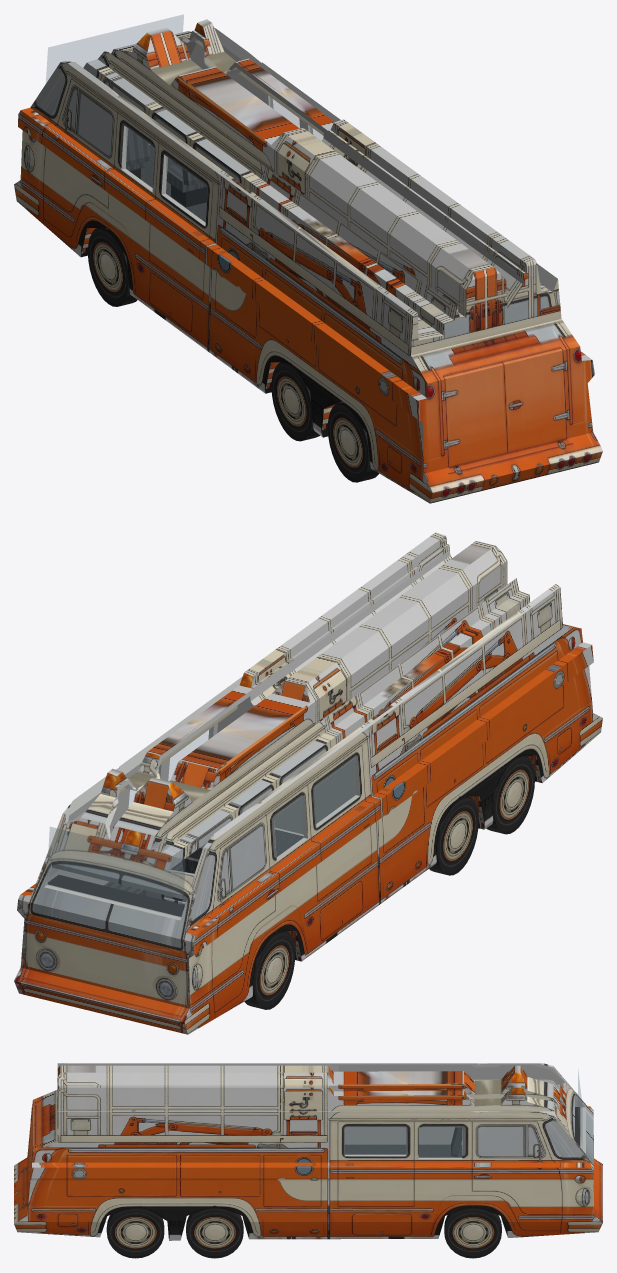
File: tram_maintenance_car.glb
3 renders of one model, top to bottom at view 1: azimuth 30°, elevation 25°; view 2: azimuth 150°, elevation 25°; view 3: azimuth 270°, elevation 25°, orthographic. The views are drawn at different scales.
Visible parts, largest first — view 1: tram_maintenance_car, tram_maintenance_car_cabin, wheel_BL, wheel_FL, wheel_M1L; view 2: tram_maintenance_car, tram_maintenance_car_cabin, wheel_FL, wheel_M1L, wheel_BL; view 3: tram_maintenance_car, tram_maintenance_car_cabin, wheel_M1R, wheel_FR, wheel_BR.
Boxes of the visible parts, x1,y1,x2,y2 form: tram_maintenance_car: (14, 19, 602, 503); tram_maintenance_car_cabin: (46, 14, 323, 222); wheel_BL: (327, 402, 379, 482); wheel_FL: (88, 228, 137, 306); wheel_M1L: (271, 362, 319, 441); tram_maintenance_car: (14, 532, 602, 1034); tram_maintenance_car_cabin: (46, 728, 355, 917); wheel_FL: (244, 931, 295, 1009); wheel_M1L: (429, 796, 478, 875); wheel_BL: (486, 756, 534, 834); tram_maintenance_car: (14, 1063, 602, 1240); tram_maintenance_car_cabin: (344, 1072, 582, 1157); wheel_M1R: (186, 1205, 243, 1258); wheel_FR: (444, 1205, 501, 1258); wheel_BR: (106, 1206, 164, 1258).
Bounding box in the file's own units: 2.44 × 3.01 × 9.99.
Materials: 12 (4 with a texture image).
